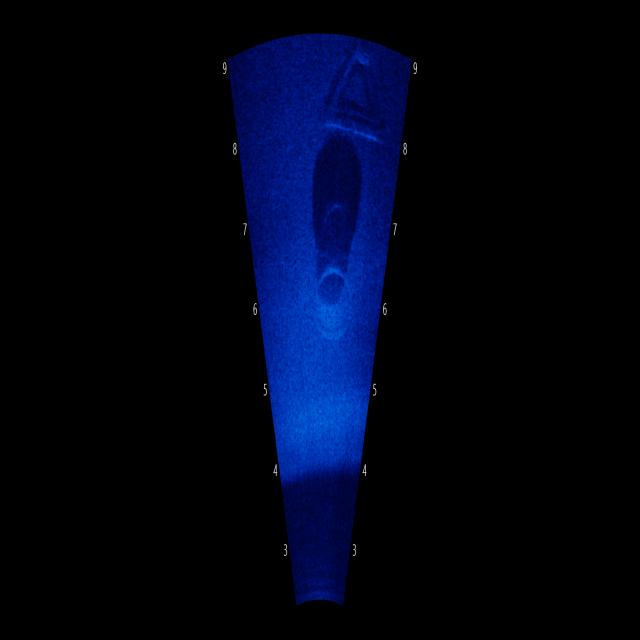circle: (304, 225, 359, 363)
triangle: (294, 44, 393, 158)
